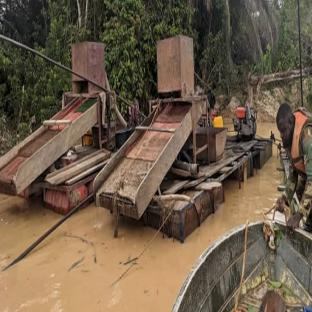Person: (278, 100, 312, 221)
ProcessingEquipment: (93, 29, 276, 228), (0, 43, 153, 210), (228, 88, 266, 149)
